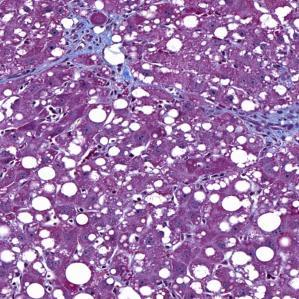fibrosis: (72, 23, 133, 77), (243, 106, 299, 143)
